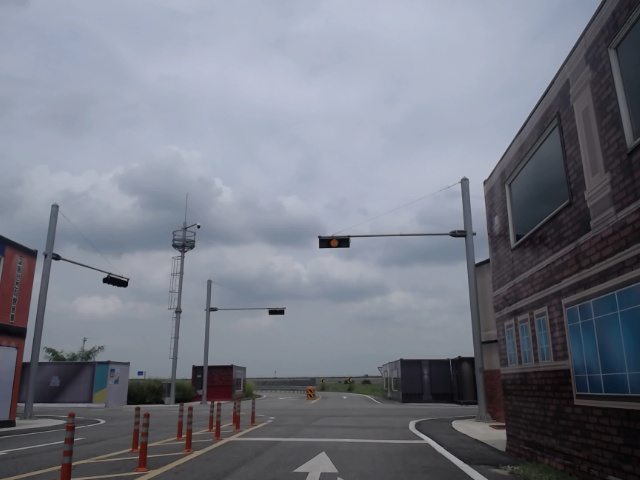orange_3: (319, 237, 349, 249)
